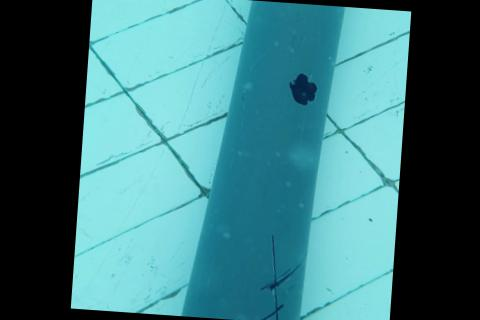kebocoran: (281, 71, 319, 107)
keretakan: (249, 232, 299, 320)
